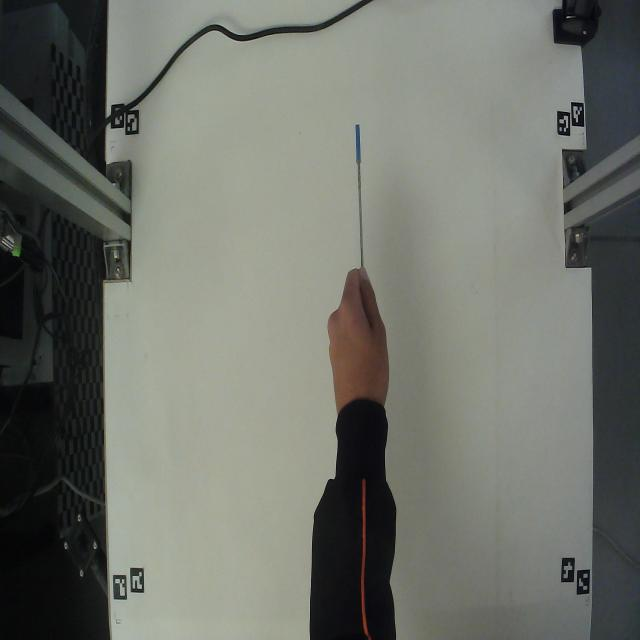NoPres: (333, 95, 380, 277)
